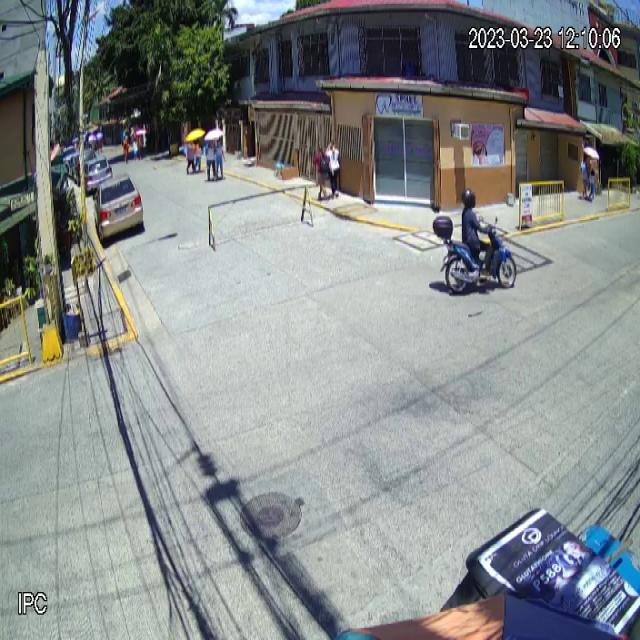Motorcycle: (433, 215, 517, 296)
